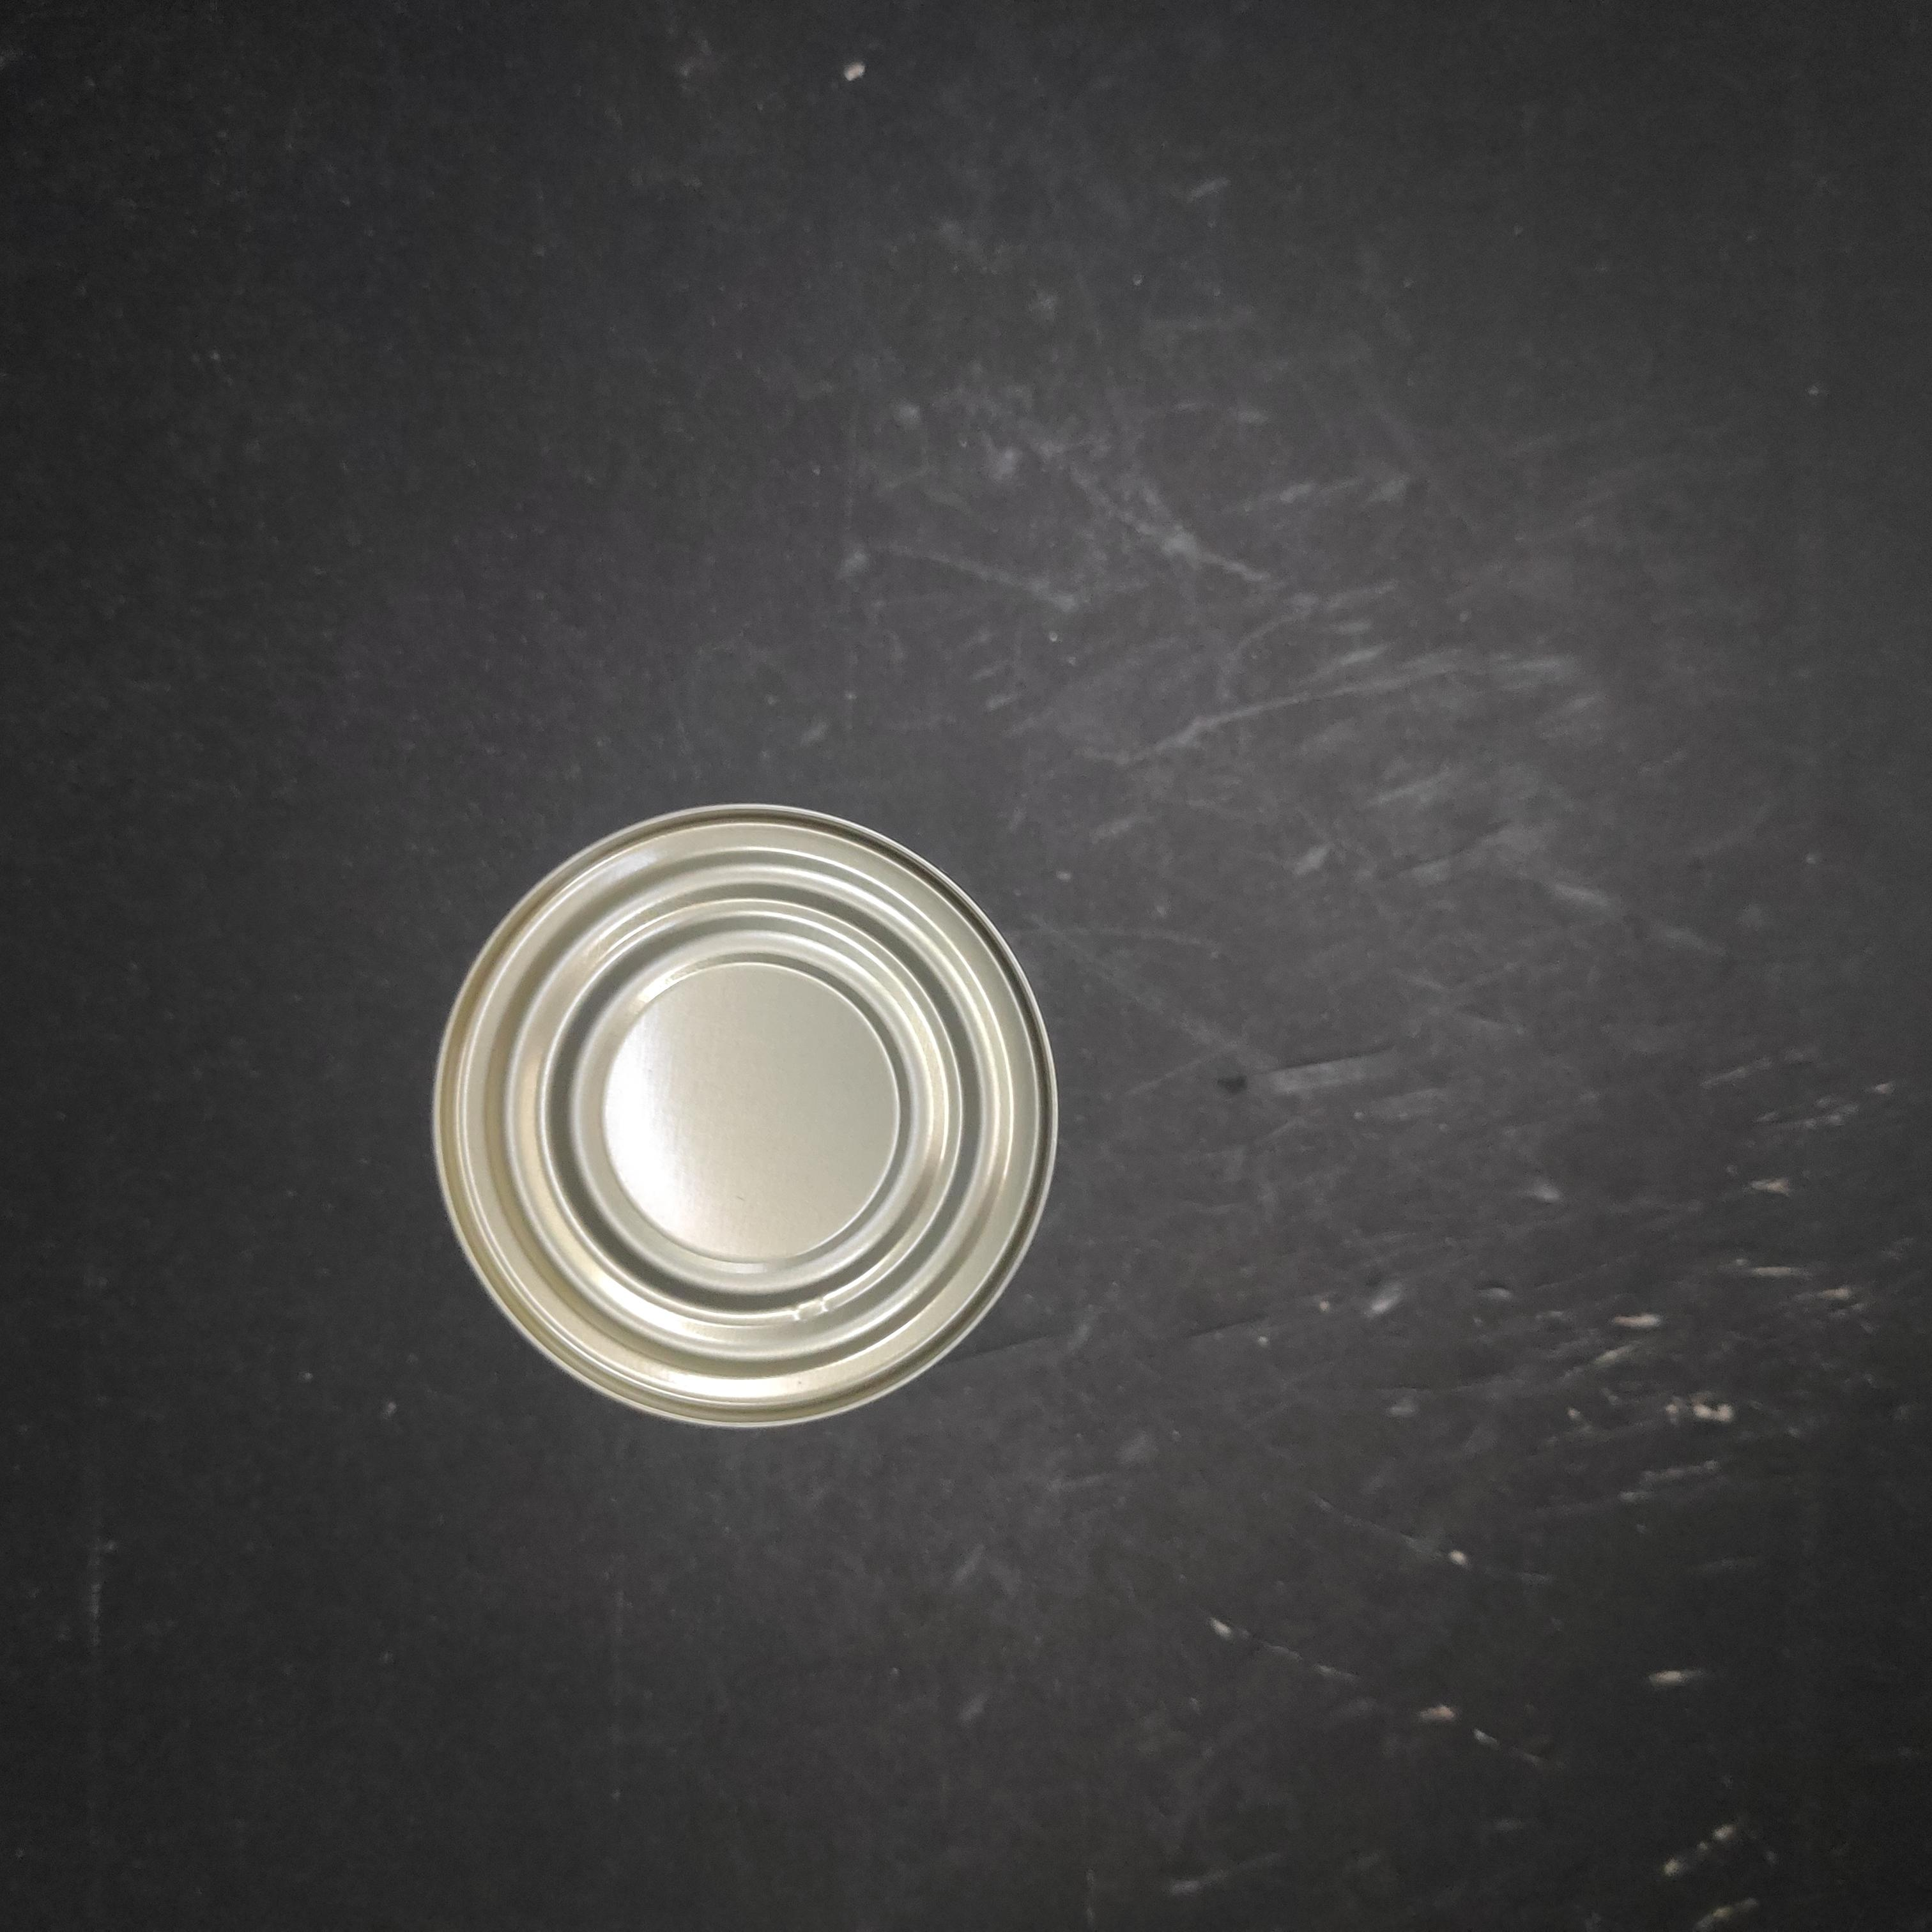No defect: (494, 416, 1143, 1074)
